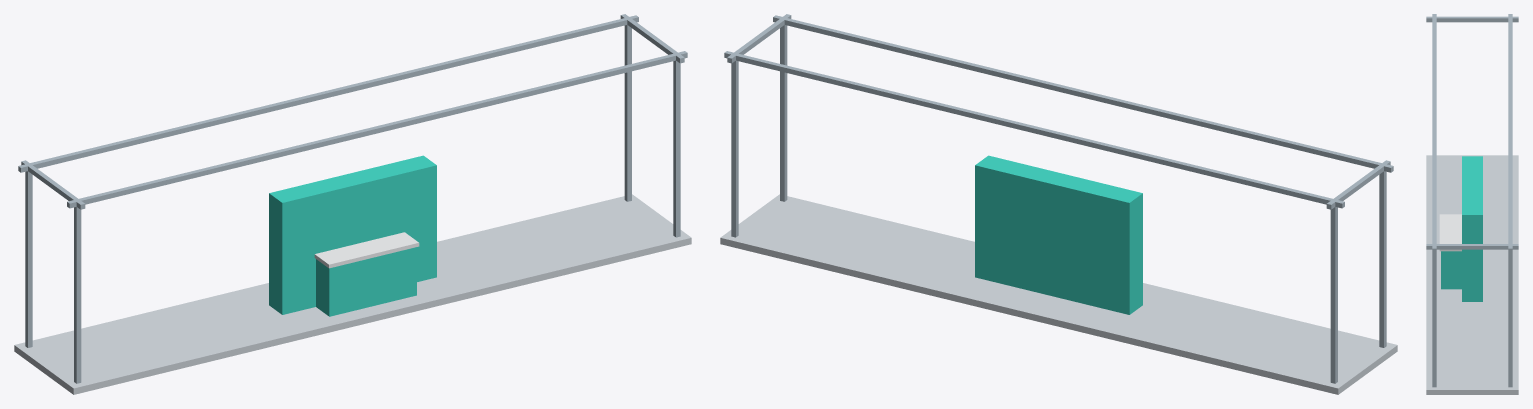
The picture shows the model from 3 angles, left to right: view 1: azimuth 30°, elevation 25°; view 2: azimuth 150°, elevation 25°; view 3: azimuth 270°, elevation 25°; orthographic projection. The views are drawn at different scales.
Visible parts, largest first — view 1: Exhibition Booth Concept; view 2: Exhibition Booth Concept; view 3: Exhibition Booth Concept.
Part boxes in pixels (box(x1,y1,x2,y2)): Exhibition Booth Concept: box(14, 14, 691, 394); Exhibition Booth Concept: box(720, 14, 1397, 394); Exhibition Booth Concept: box(1426, 14, 1518, 394).
Bounding box in the file's own units: 12 × 3.49 × 2.
